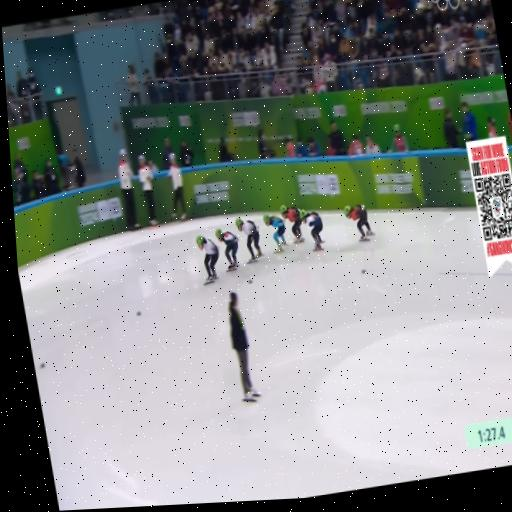Skater: (235, 218, 262, 263), (344, 204, 374, 241), (197, 235, 219, 282), (300, 210, 322, 251), (216, 229, 238, 270), (263, 214, 286, 253), (281, 205, 304, 243)
